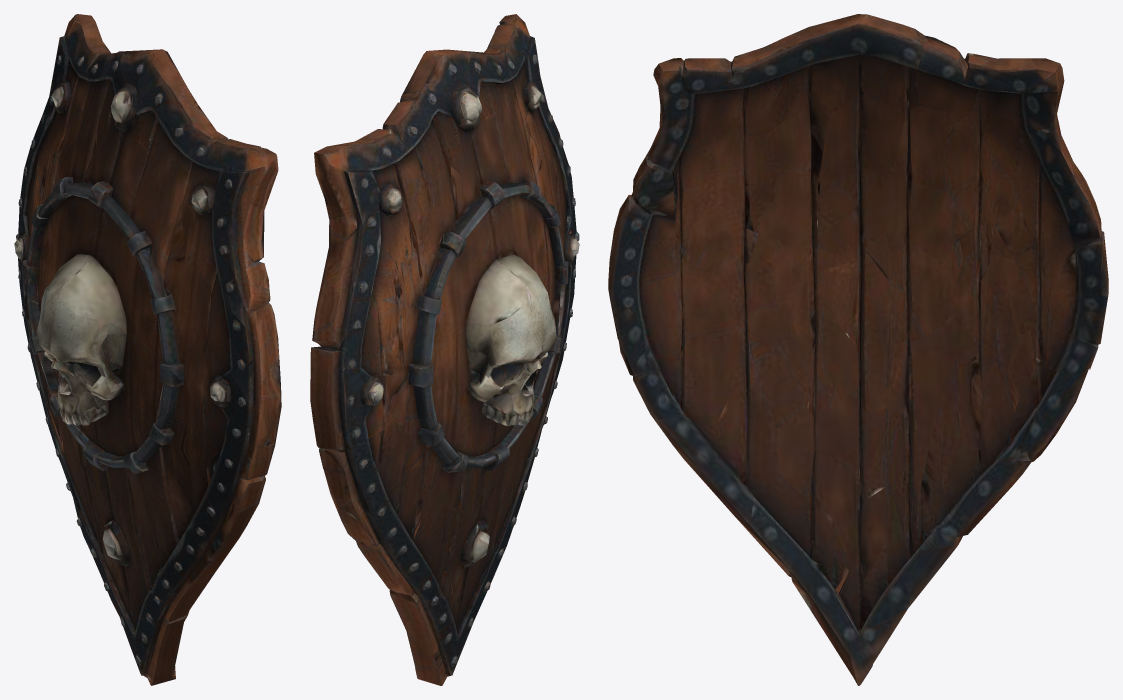
File: shield-skull.glb
3 renders of one model, left to right at view 1: azimuth 30°, elevation 25°; view 2: azimuth 150°, elevation 25°; view 3: azimuth 270°, elevation 25°, orthographic. The views are drawn at different scales.
Size of the model in its own units: 0.1235 by 0.5498 by 0.378.
1 material, 1 textured.
